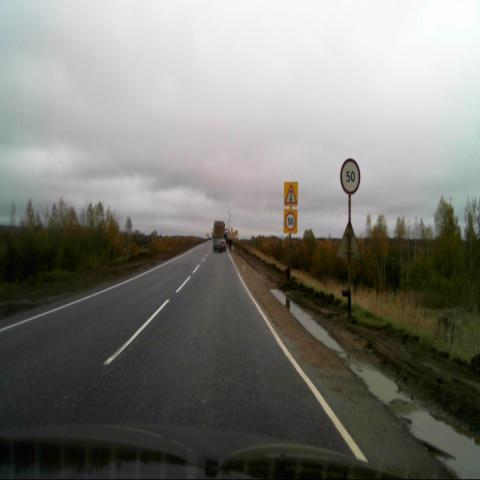1_8: (284, 181, 298, 206)
